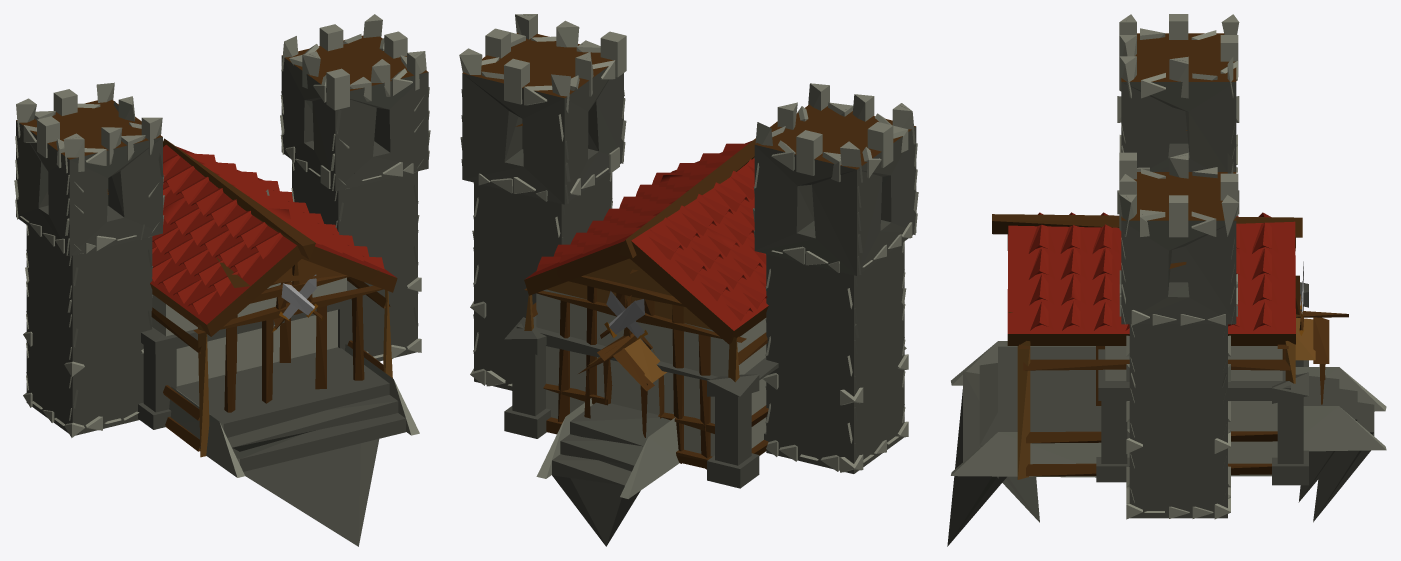
The model's file is Barracks_SecondAge_Level2.fbx.
3 renders of one model, left to right at view 1: azimuth 30°, elevation 25°; view 2: azimuth 150°, elevation 25°; view 3: azimuth 270°, elevation 25°, orthographic. The views are drawn at different scales.
Parts seen in each view (by area): view 1: High_Barracks_SecondAge_Level2, Low_Barracks_SecondAge_Level2; view 2: High_Barracks_SecondAge_Level2, Low_Barracks_SecondAge_Level2; view 3: High_Barracks_SecondAge_Level2, Low_Barracks_SecondAge_Level2.
Part boxes in pixels (x1,y1,x2,y2): High_Barracks_SecondAge_Level2: (14, 14, 430, 477); Low_Barracks_SecondAge_Level2: (35, 54, 417, 546); High_Barracks_SecondAge_Level2: (459, 14, 918, 498); Low_Barracks_SecondAge_Level2: (515, 14, 904, 546); High_Barracks_SecondAge_Level2: (951, 14, 1386, 519); Low_Barracks_SecondAge_Level2: (947, 20, 1373, 546).
Size of the model in its own units: 171 by 178 by 167.
